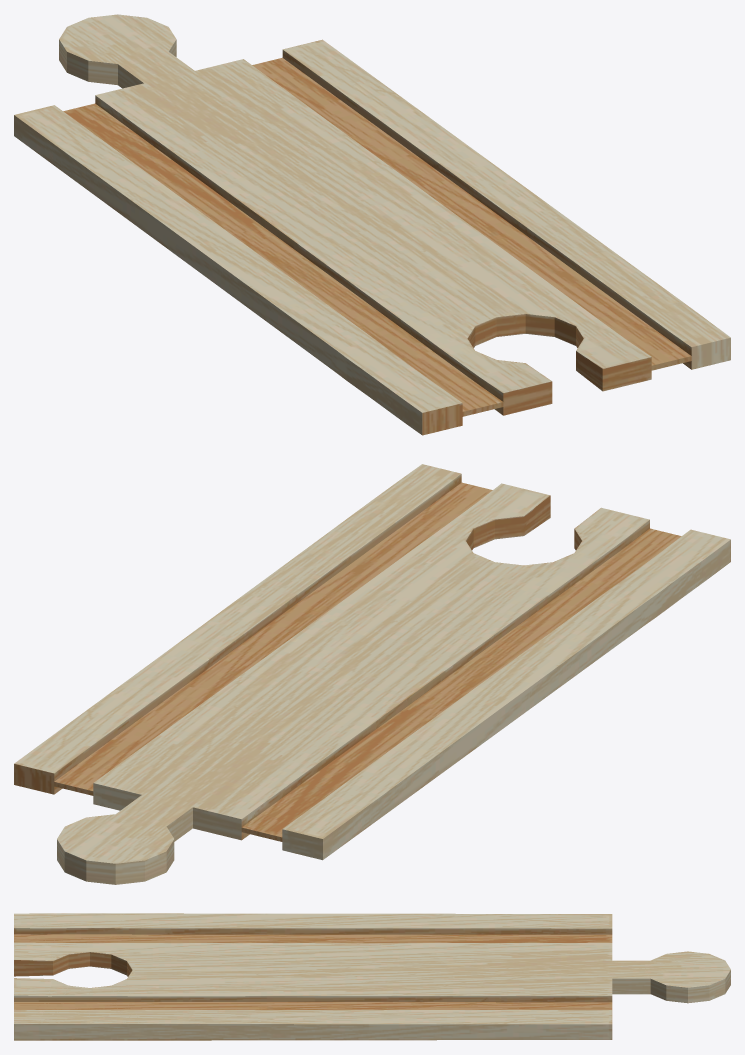
Rendered from TrainTrack.fbx.
3 renders of one model, top to bottom at view 1: azimuth 30°, elevation 25°; view 2: azimuth 150°, elevation 25°; view 3: azimuth 270°, elevation 25°, orthographic. The views are drawn at different scales.
Visible parts, largest first — view 1: Cylinder.003; view 2: Cylinder.003; view 3: Cylinder.003.
Part boxes in pixels (x1=…): Cylinder.003: x1=14, y1=14, x2=730, y2=435; Cylinder.003: x1=14, y1=464, x2=730, y2=884; Cylinder.003: x1=14, y1=913, x2=730, y2=1040.
Bounding box in the file's own units: 278 × 19.4 × 761.
